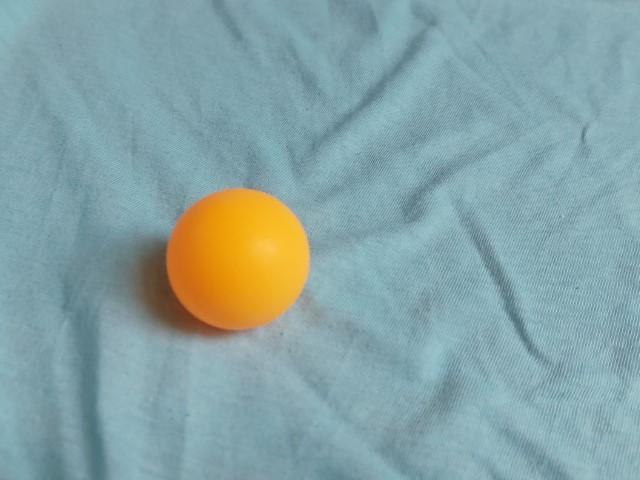oball: (159, 182, 313, 334)
